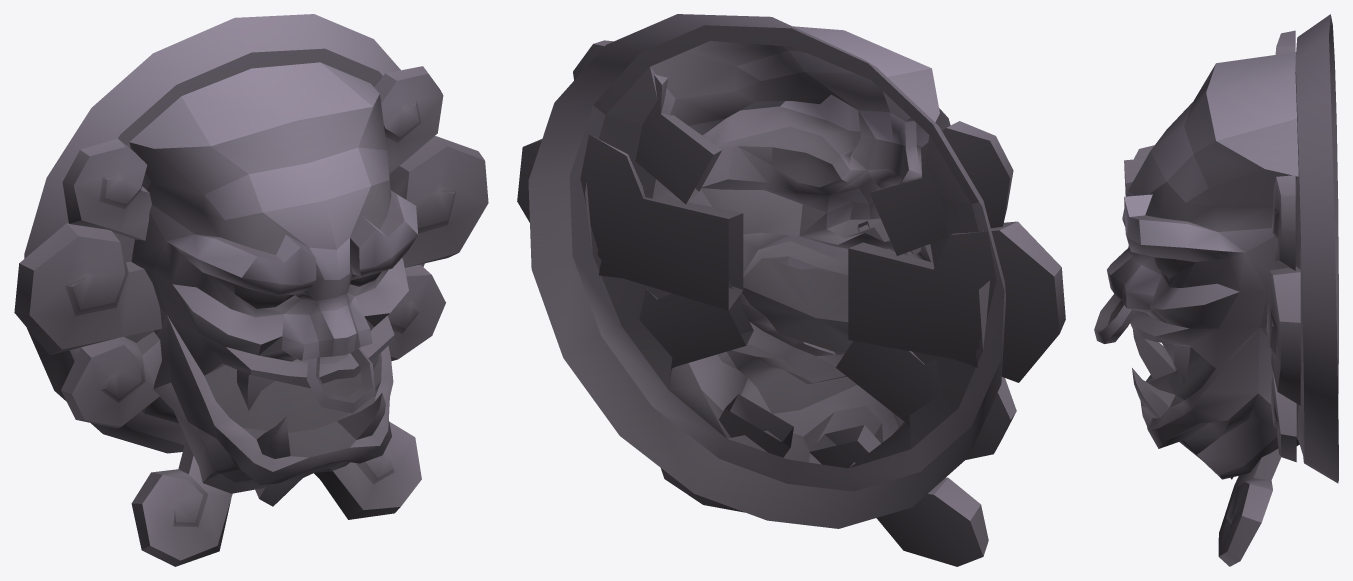
Rendered from wall_decor_3.glb.
The picture shows the model from 3 angles, left to right: view 1: azimuth 30°, elevation 25°; view 2: azimuth 150°, elevation 25°; view 3: azimuth 270°, elevation 25°; orthographic projection. The views are drawn at different scales.
Parts seen in each view (by area): view 1: wall_decor_3; view 2: wall_decor_3; view 3: wall_decor_3.
Boxes of the visible parts, x1=… form: wall_decor_3: x1=14, y1=14, x2=488, y2=566; wall_decor_3: x1=517, y1=14, x2=1065, y2=566; wall_decor_3: x1=1094, y1=14, x2=1338, y2=566.
Bounding box in the file's own units: 1.12 × 1.11 × 0.5154.
1 material, 1 textured.
